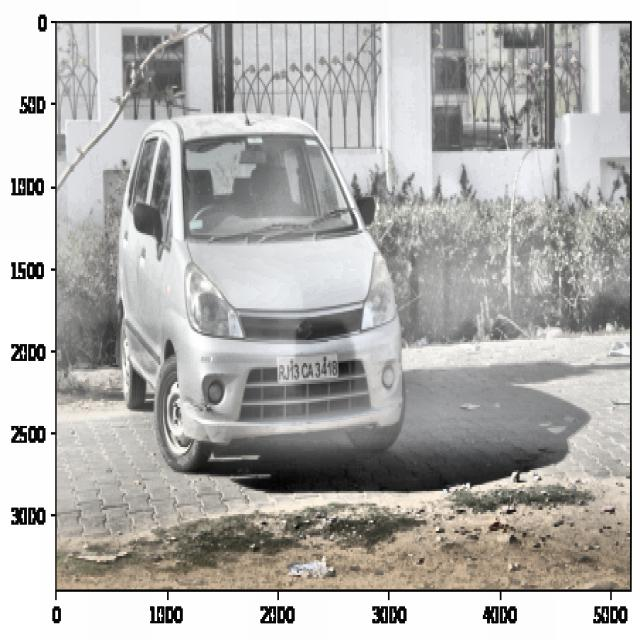license_plate: (274, 356, 339, 386)
